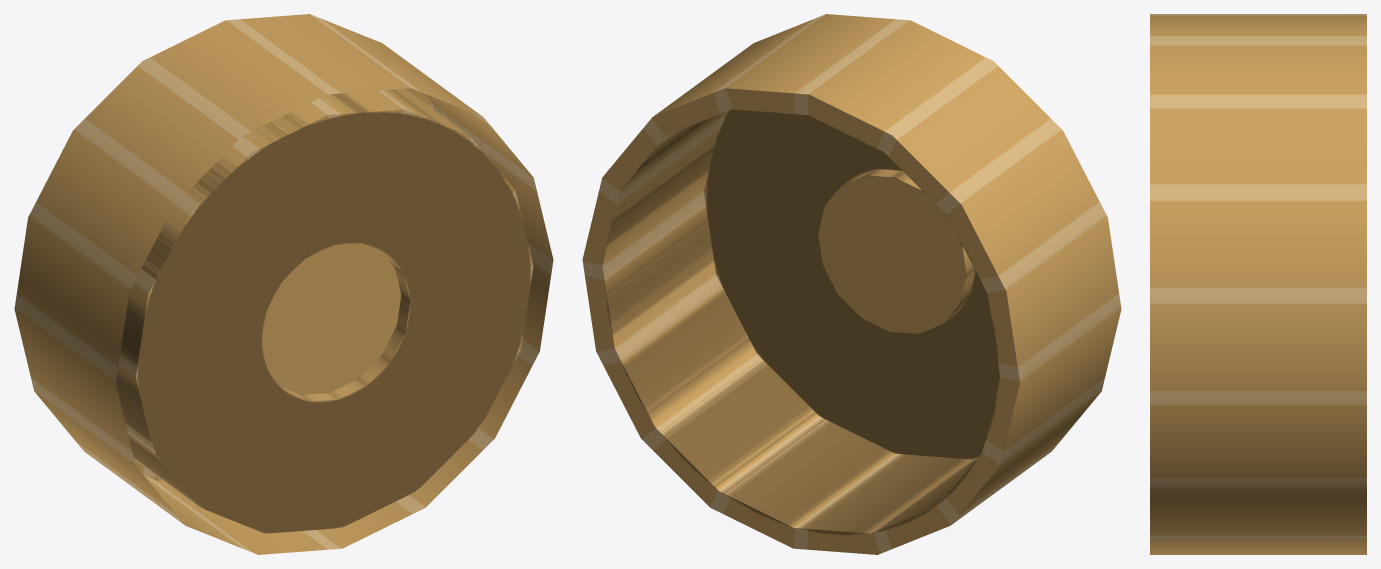
File: kasha.fbx
3 renders of one model, left to right at view 1: azimuth 30°, elevation 25°; view 2: azimuth 150°, elevation 25°; view 3: azimuth 270°, elevation 25°, orthographic. The views are drawn at different scales.
Parts seen in each view (by area): view 1: cylinder; view 2: cylinder; view 3: cylinder.
Part boxes in pixels (<box>): cylinder: <box>14,14,553,554</box>; cylinder: <box>582,14,1121,554</box>; cylinder: <box>1150,14,1366,554</box>.
Bounding box in the file's own units: 198 × 198 × 79.61.
